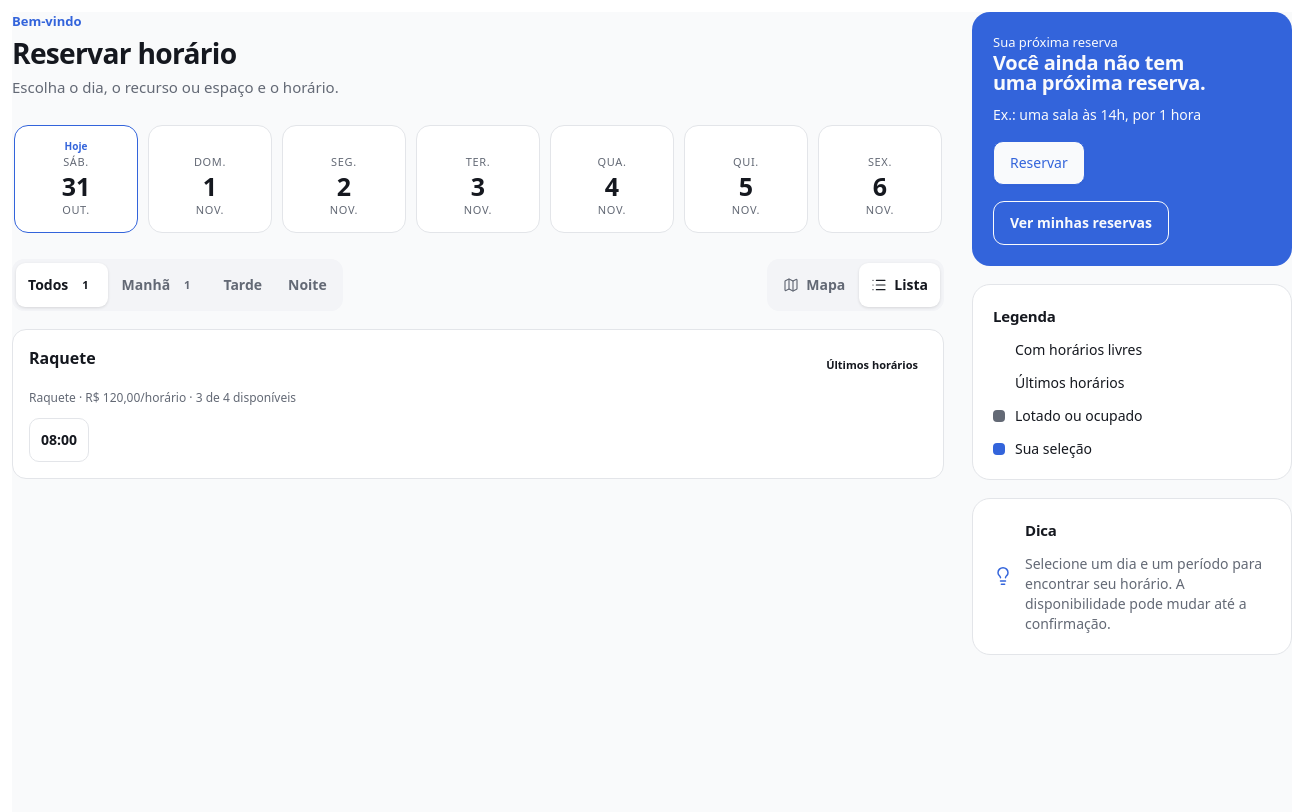
Scenario: BookingMapExperience › shows the quoted Slot unit for a two-hour window
Click the radio button labelled "Mapa" at point(814, 285), box [771,263,857,307]
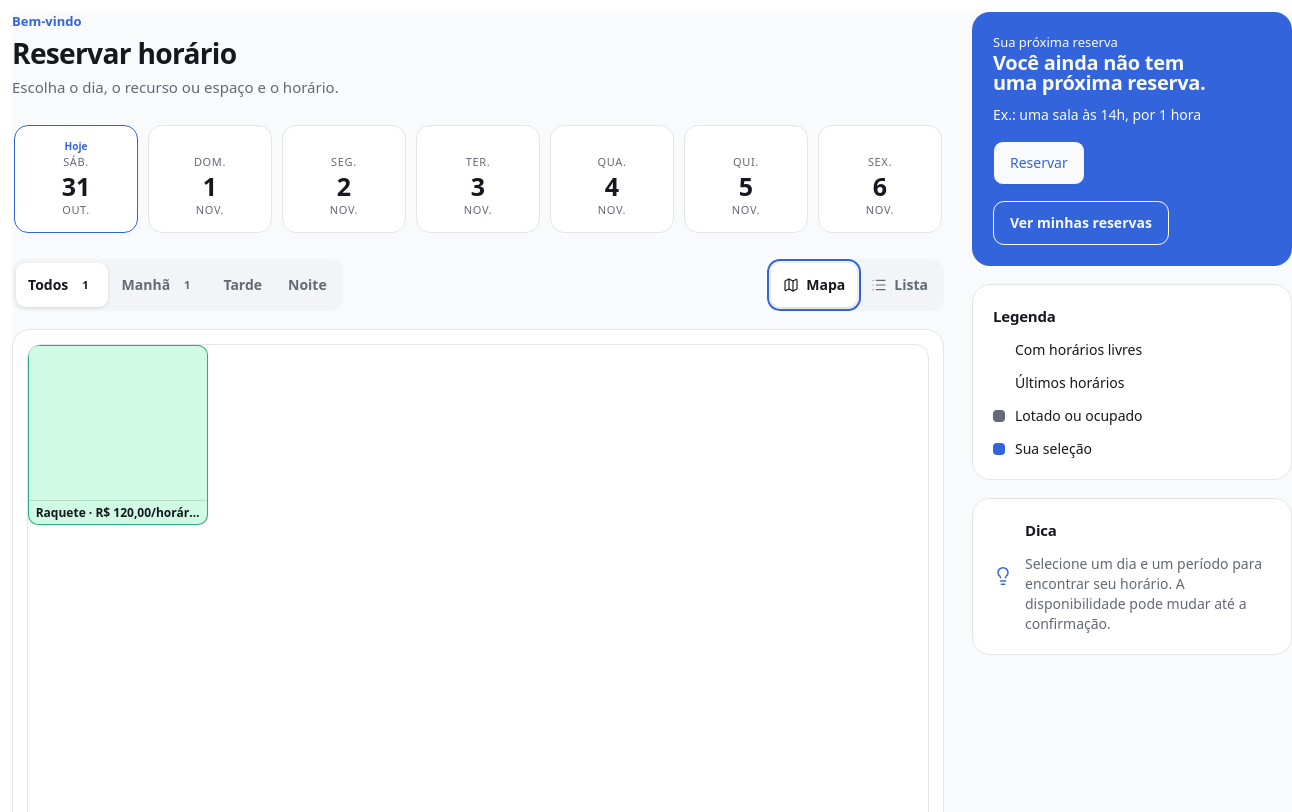
Now the button "Raquete" shows "R$ 120,00/horário", box [28,345,208,525]
